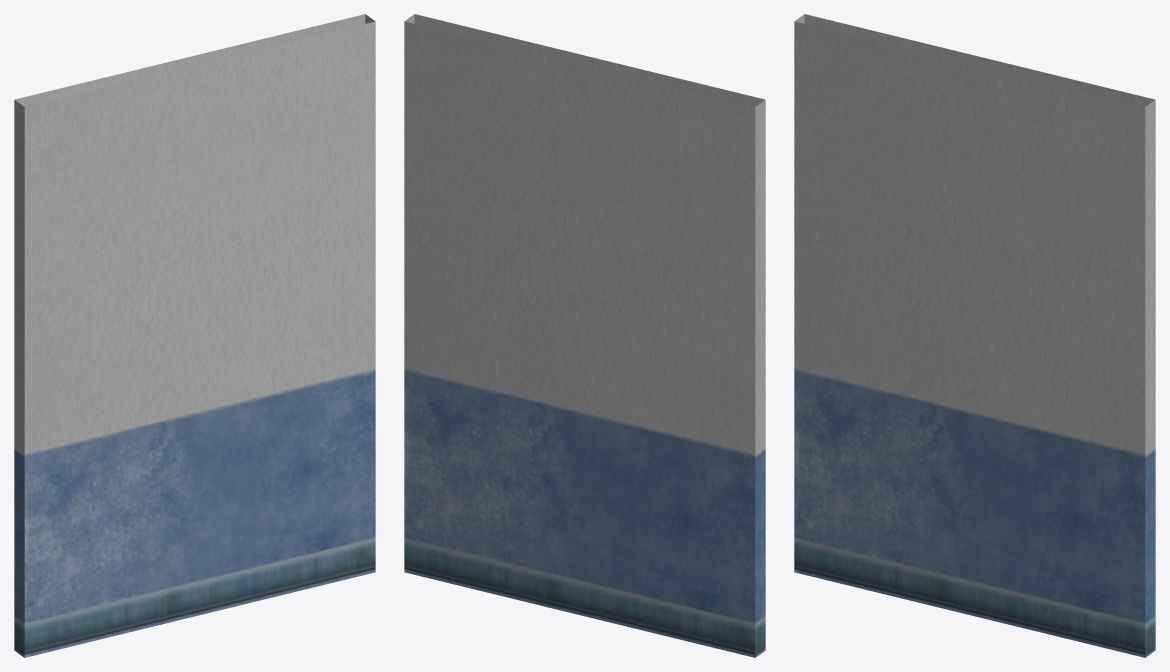
File: Wall_medium.FBX
3 views of the same model, side by side, from view 1: azimuth 30°, elevation 25°; view 2: azimuth 150°, elevation 25°; view 3: azimuth 330°, elevation 25° (orthographic).
Parts seen in each view (by area): view 1: Wall_medium; view 2: Wall_medium; view 3: Wall_medium.
Boxes of the visible parts, x1,y1,x2,y2 form: Wall_medium: (14,14,375,657); Wall_medium: (404,14,765,657); Wall_medium: (794,14,1155,657).
Size of the model in its own units: 131 by 197 by 6.56.
